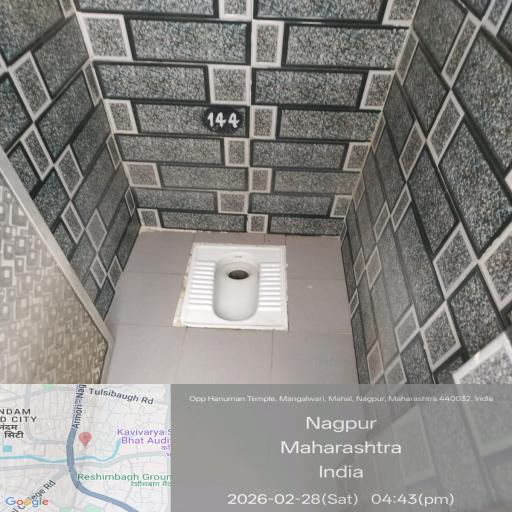clean_floor: (0, 2, 505, 236), (71, 328, 447, 496)
clean_indian: (164, 228, 314, 346)
